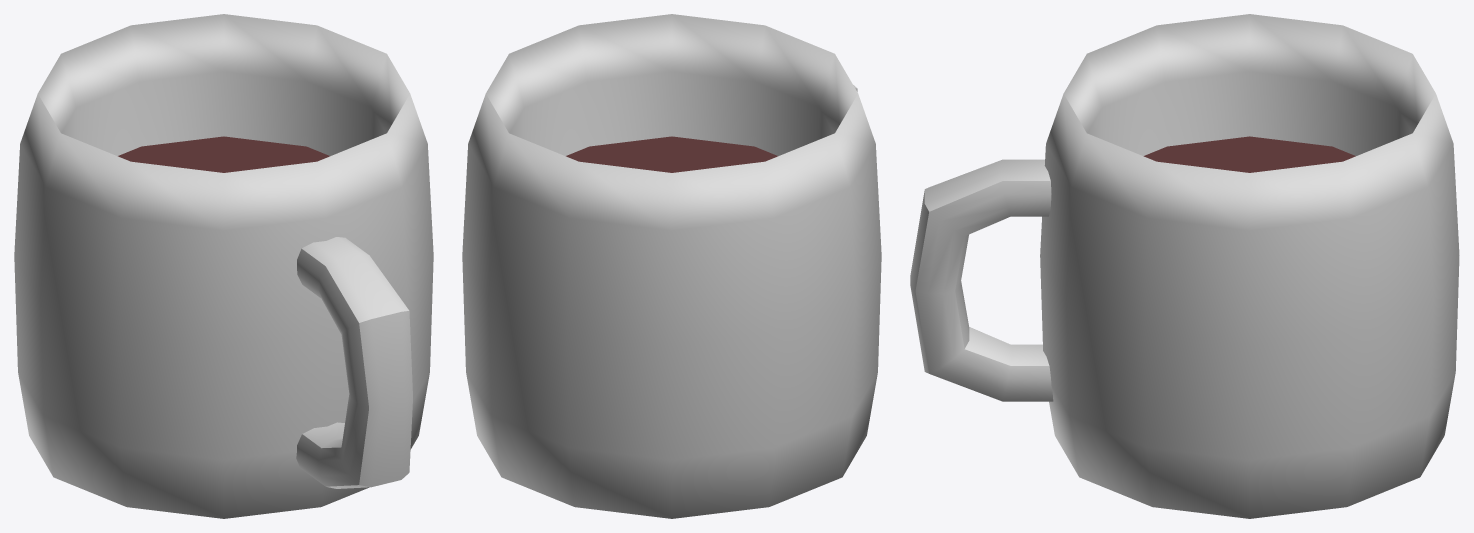
The model's file is coffee_cup.fbx.
3 views of the same model, side by side, from view 1: azimuth 30°, elevation 25°; view 2: azimuth 150°, elevation 25°; view 3: azimuth 270°, elevation 25° (orthographic).
Parts seen in each view (by area): view 1: Cup Coffe; view 2: Cup Coffe; view 3: Cup Coffe.
Boxes of the visible parts, bbox=[...] form: Cup Coffe: bbox=[14, 14, 433, 518]; Cup Coffe: bbox=[462, 14, 881, 518]; Cup Coffe: bbox=[910, 14, 1459, 518].
Size of the model in its own units: 19.87 by 18.63 by 25.74.
